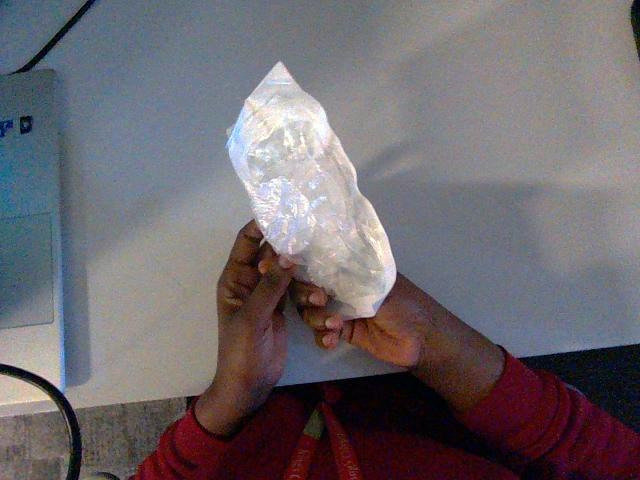gallipot: (227, 62, 395, 317)
